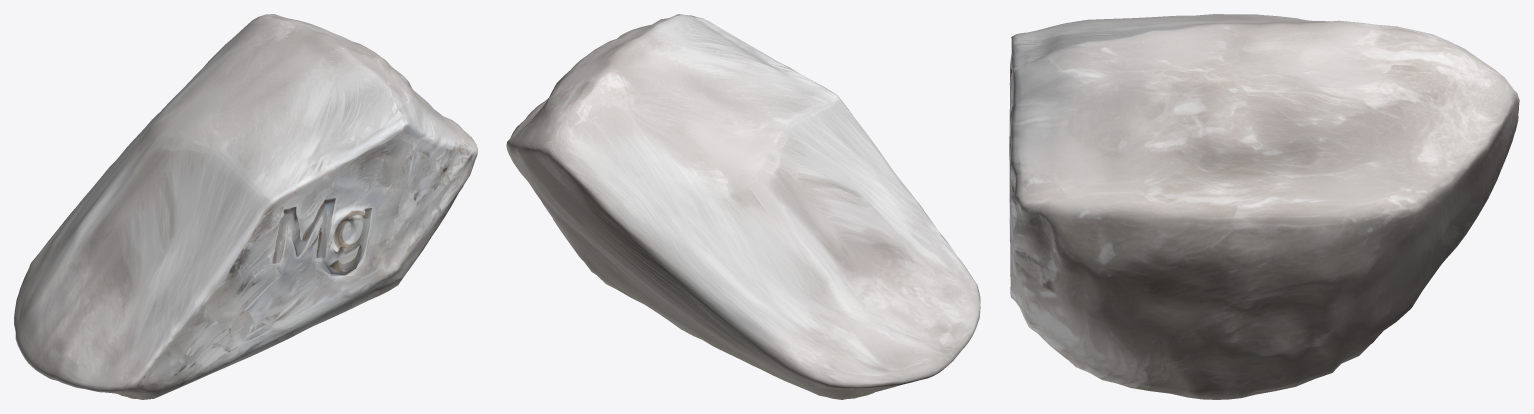
File: magnesium.glb
3 views of the same model, side by side, from view 1: azimuth 30°, elevation 25°; view 2: azimuth 150°, elevation 25°; view 3: azimuth 270°, elevation 25° (orthographic). The views are drawn at different scales.
Parts seen in each view (by area): view 1: model; view 2: model; view 3: model.
Part boxes in pixels (x1,y1,x2,y2): model: (14,14,477,399); model: (506,14,980,399); model: (1009,14,1519,399).
Bounding box in the file's own units: 1.79 × 1.22 × 1.25.
Materials: 1 (1 with a texture image).
